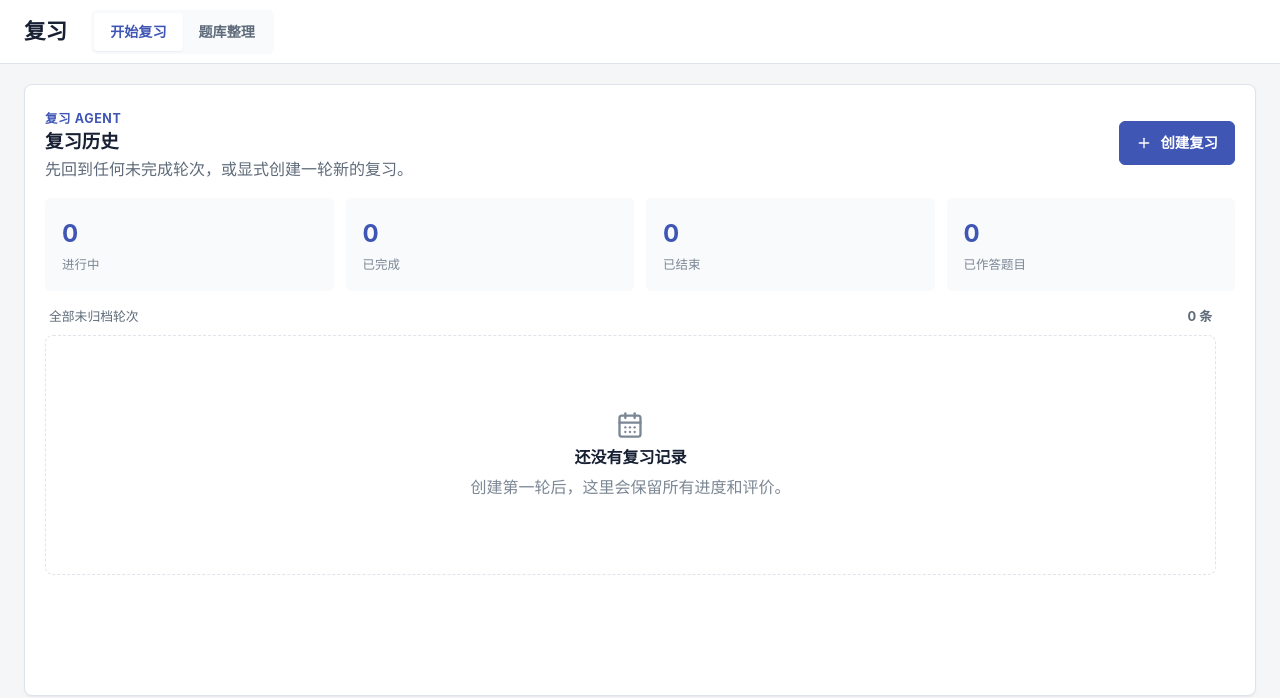
Scenario: R2 ReviewPage › keeps a large topic catalog compact until the user expands or searches it
Click the button "创建复习" at (1177, 143), box x1=1119 y1=121 x2=1235 y2=165
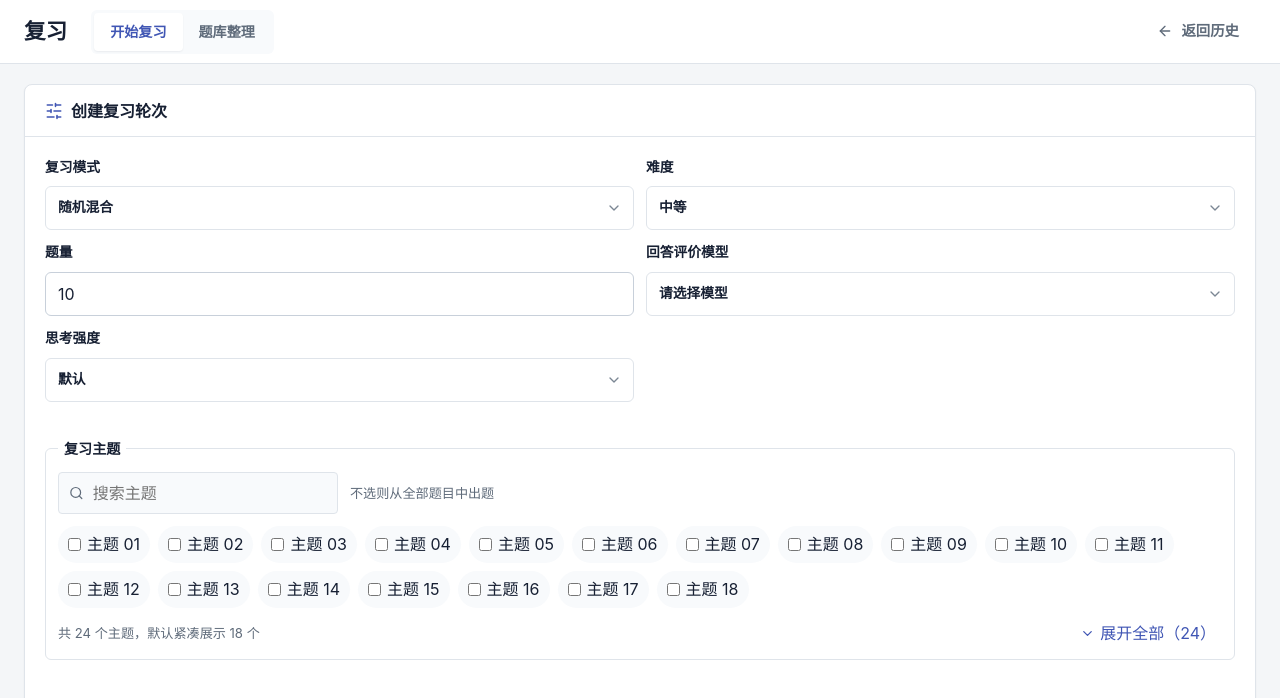
Expected: the checkbox labelled "主题 24" is not shown
Now the button "展开全部（24）" is shown, box x1=1074 y1=620 x2=1222 y2=647
Now the number of checkboxes is 18
Type "主题 24" into the field named "搜索复习主题" at (209, 493), box x1=91 y1=480 x2=327 y2=506
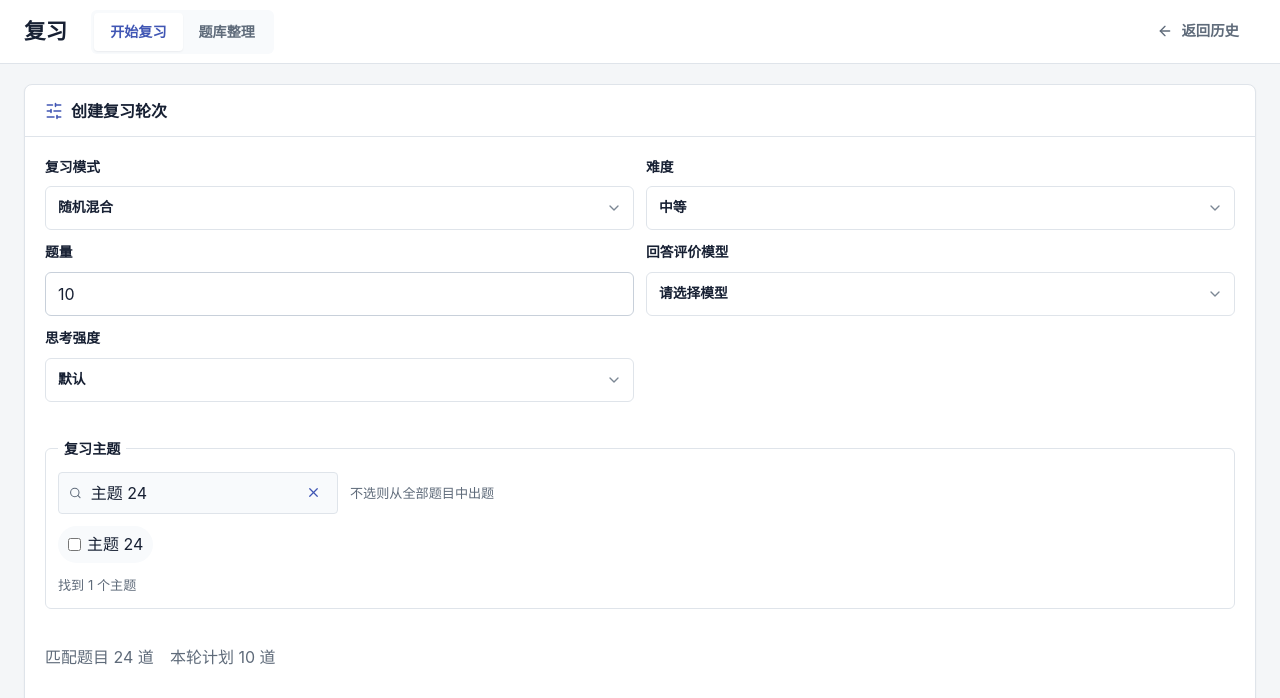
Now the number of checkboxes is 1, box x1=68 y1=538 x2=81 y2=551
